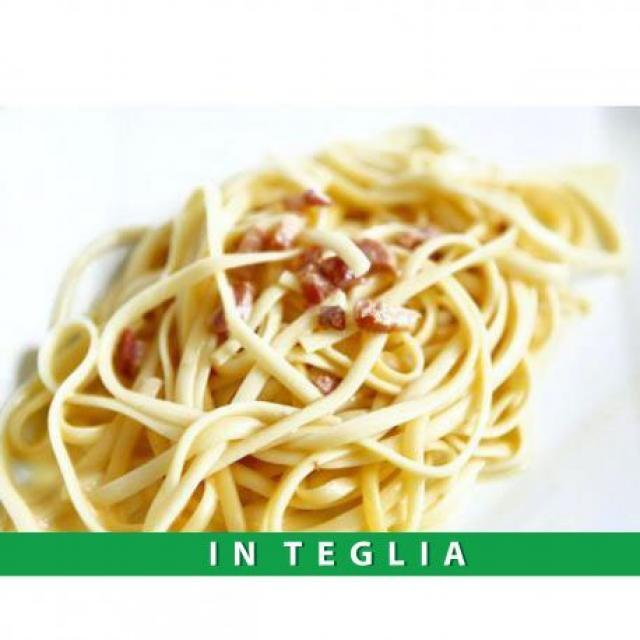Pasta with carbonara sauce: (21, 126, 640, 510)
